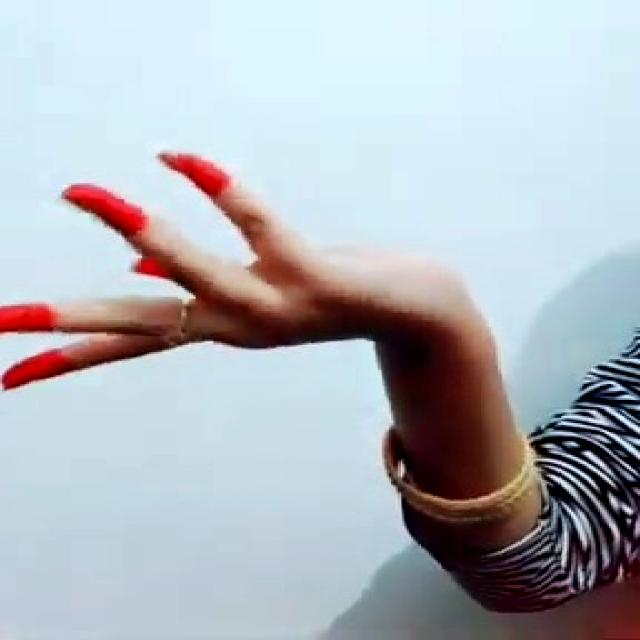Alapadma: (8, 122, 484, 404)
bangle: (362, 406, 564, 536)
